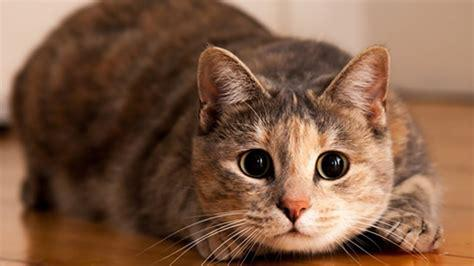cat: (12, 1, 444, 260)
